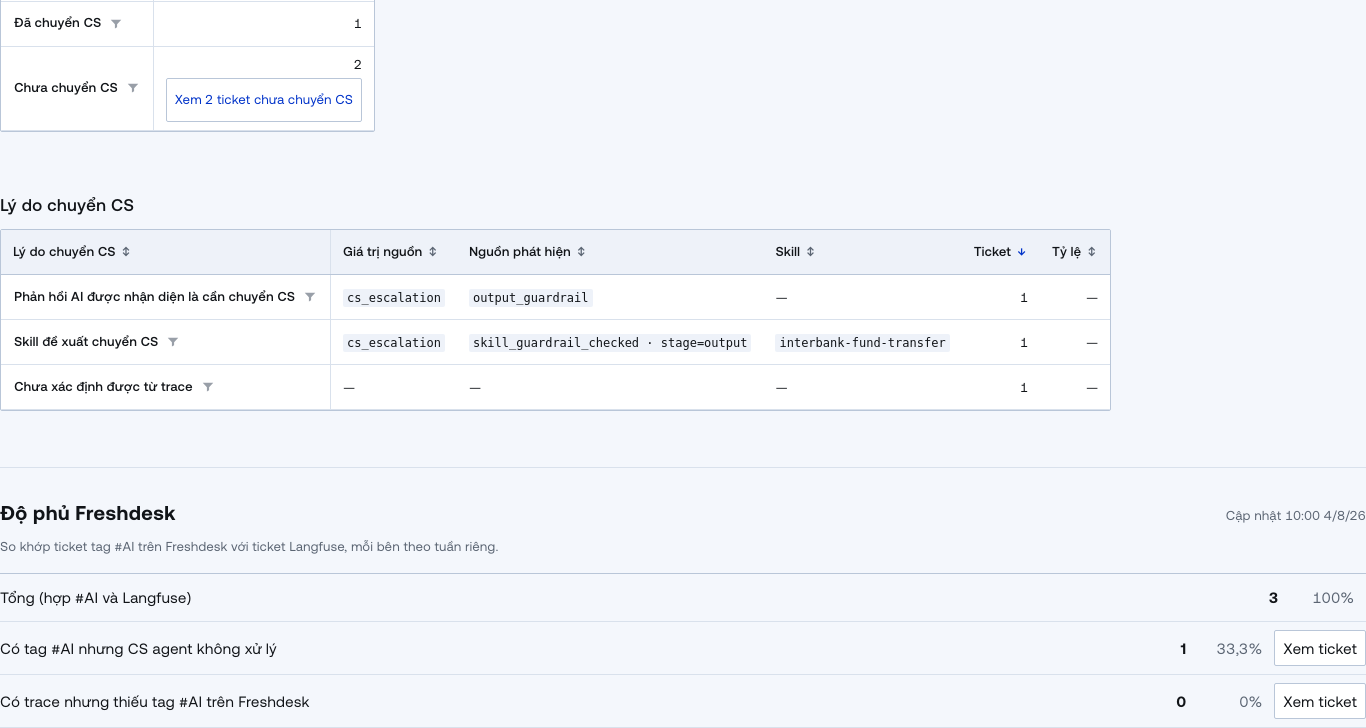
Test: Below-fold analysis › shows the #AI miss count and share, and opens its ticket list
(page scrolled)
Expected: the text "1" is shown, [1180,636,1186,659]
Expected: the text "33,3%" is shown, [1217,638,1262,656]
Click the button "Xem ticket" next to "33,3%".
click(1320, 648)  # box [1274,630,1365,666]
(page scrolled)
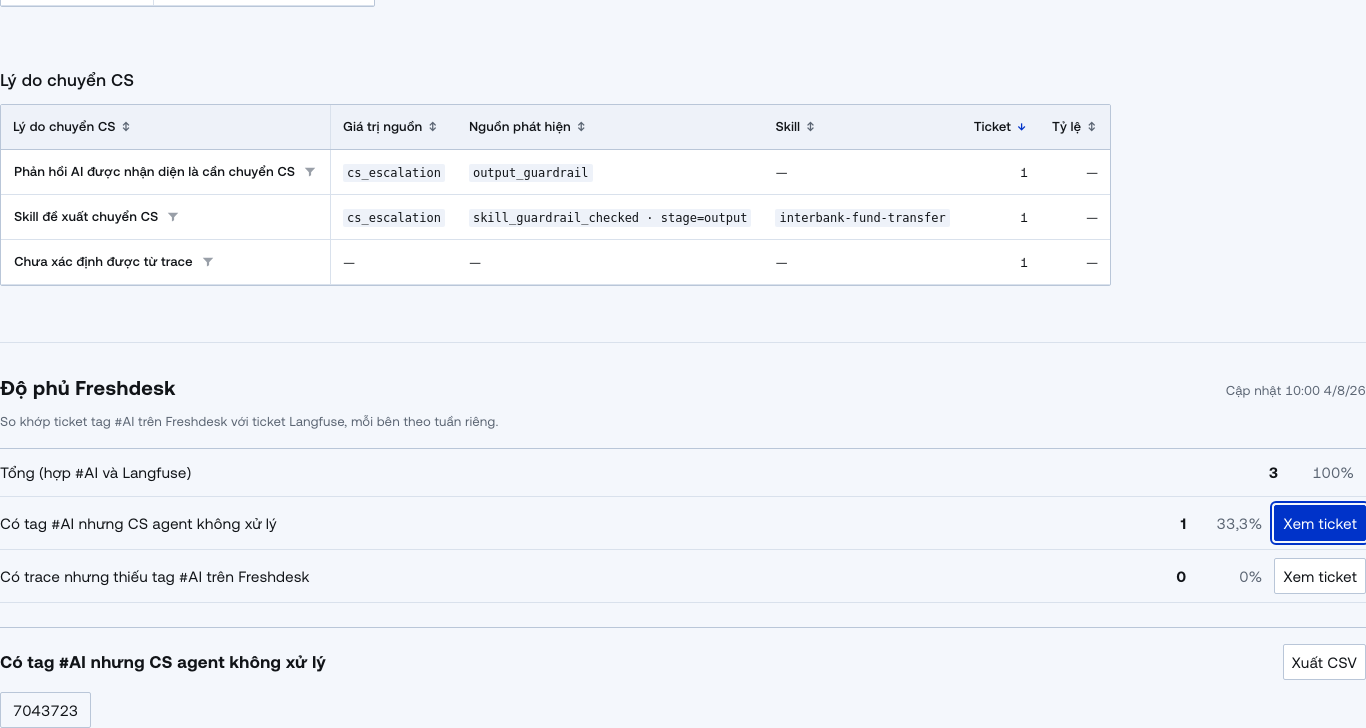
Expected: the link "7043723" is shown, [0,692,92,727]
